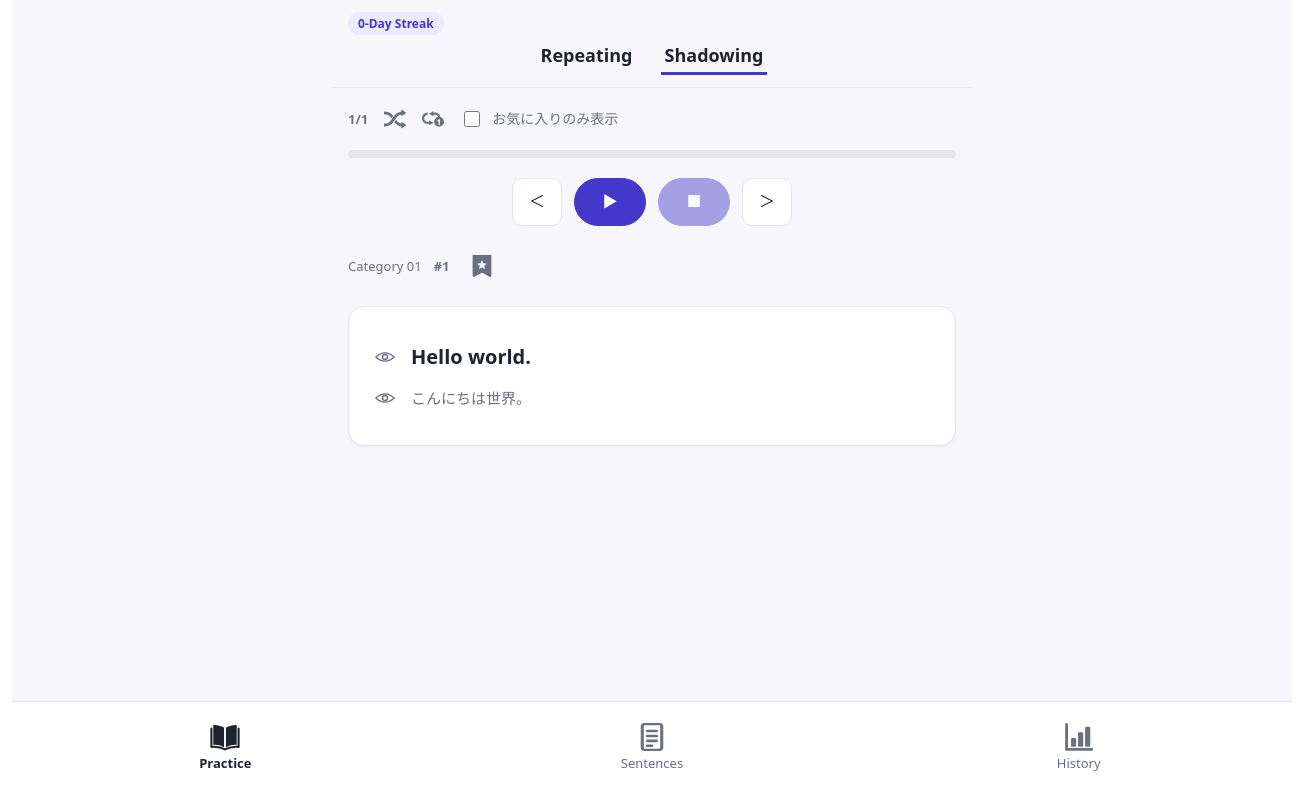
Test case: App › お気に入りボタンをクリックしても英文一覧の再取得は発生しない（画面のちらつき防止の回帰テスト）
The image size is (1304, 800).
Expected: the text "Hello world." is shown, x1=411 y1=342 x2=531 y2=372
Click the button named "お気に入りに追加" at (482,266), box x1=462 y1=246 x2=502 y2=286
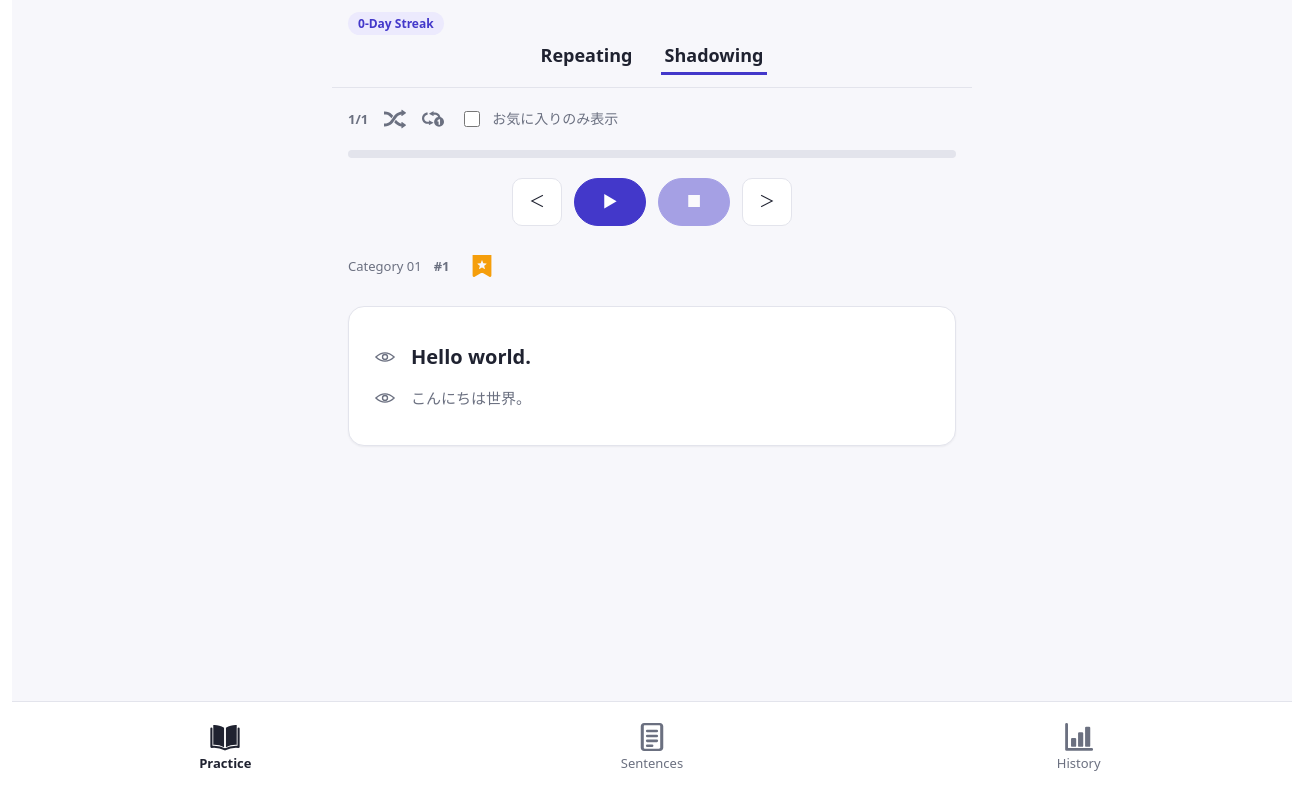
Expected: the button named "お気に入りから解除" is shown, x1=462 y1=246 x2=502 y2=286
